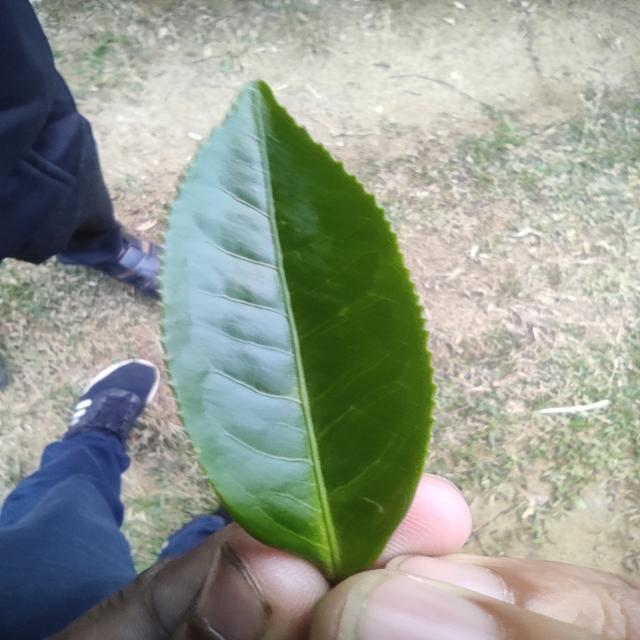Category C(4-7 days): (106, 57, 456, 572)
